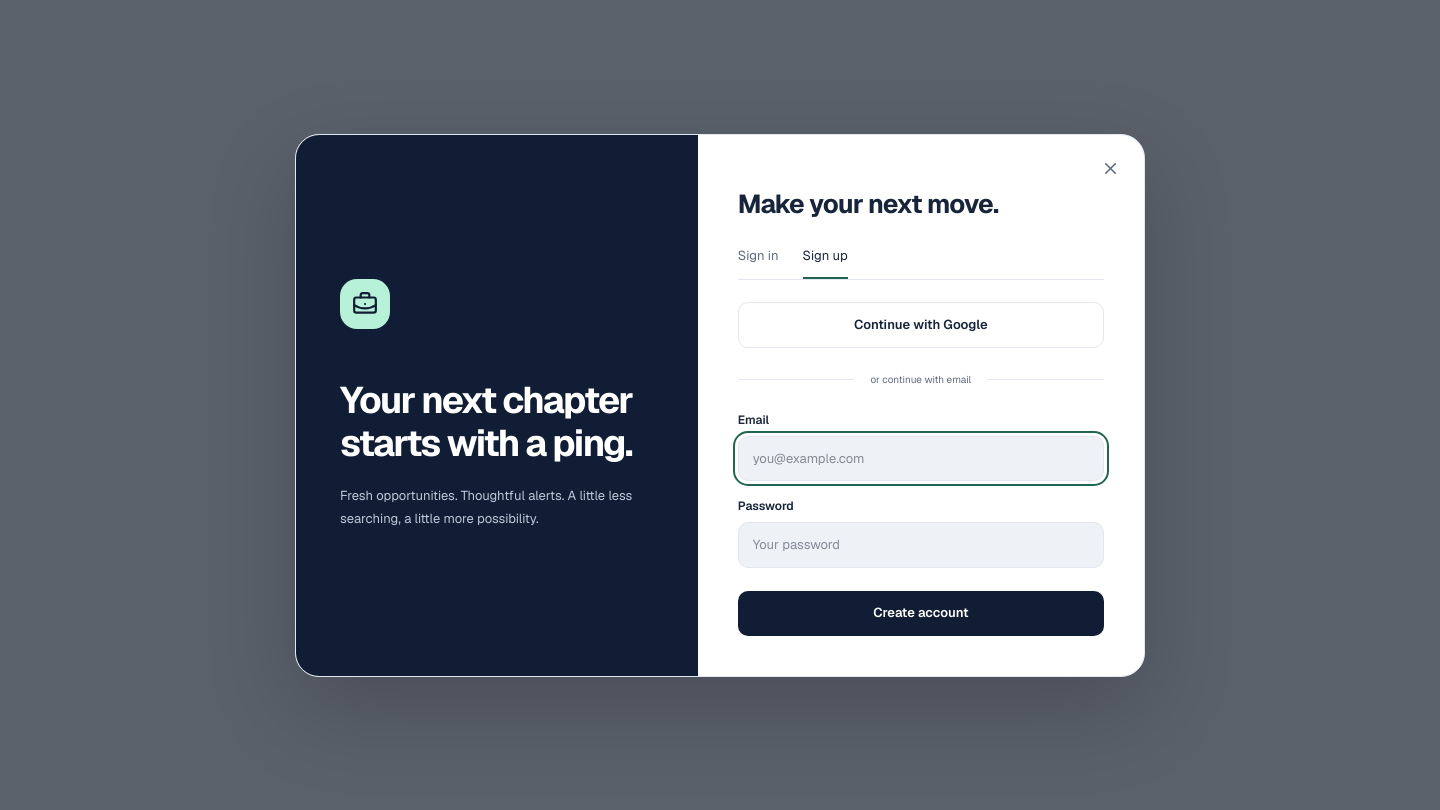
Scenario: uses a provider throttle cooldown and never automatically retries credentials
This screenshot has width=1440, height=810.
Click the button "Continue with Google": coordinates (921, 325) [738,302,1104,348]
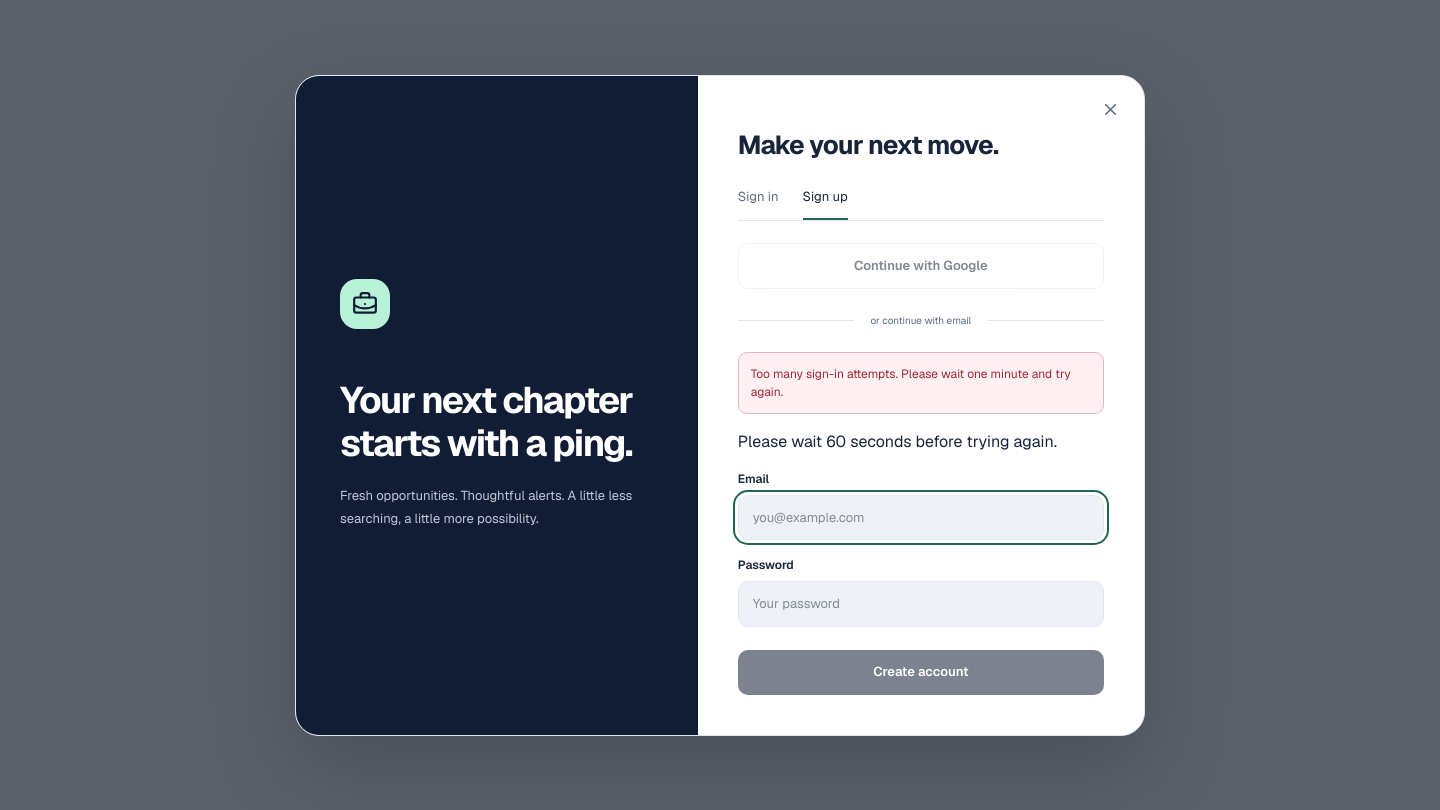
Expected: the message "Too many sign-in attempts. Please wait one minute and try again." is shown, [738,352,1104,414]
Expected: the button "Continue with Google" is disabled, [738,243,1104,288]
